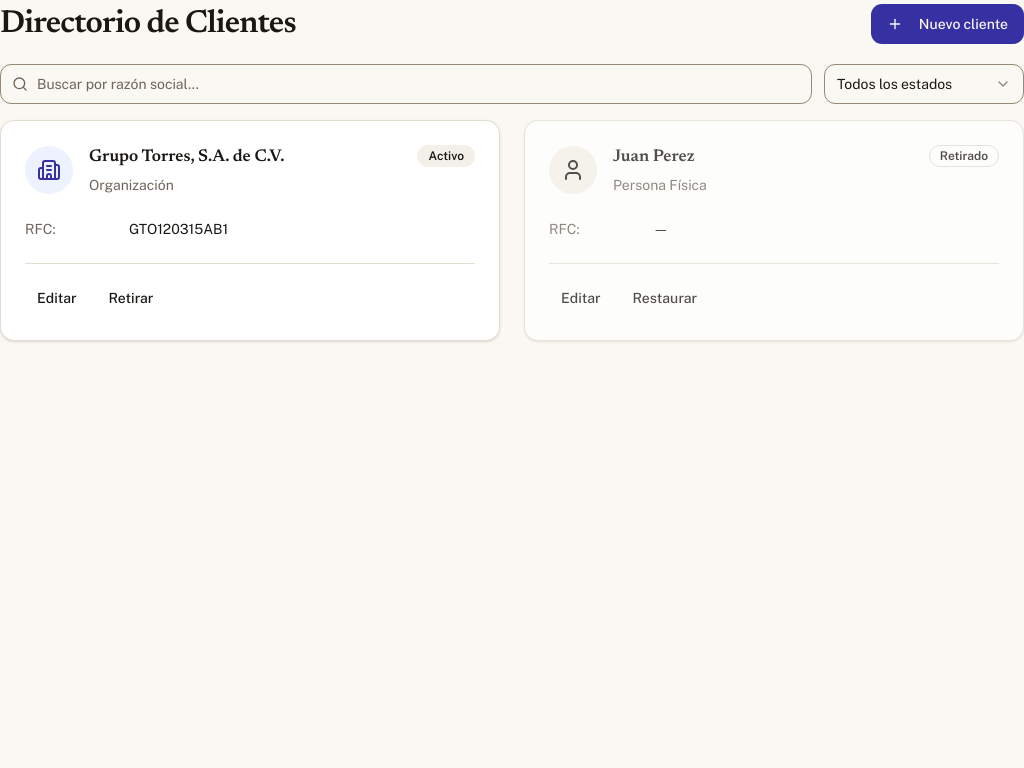
it: the withdraw and restore controls › asks for confirmation before withdrawing, and sends nothing until then
The image size is (1024, 768).
Check: the heading "Grupo Torres, S.A. de C.V." is shown, box 89,145 -> 284,170
Click the button with aria-label "retirar grupo torres": x=131, y=298 96,280 -> 165,316
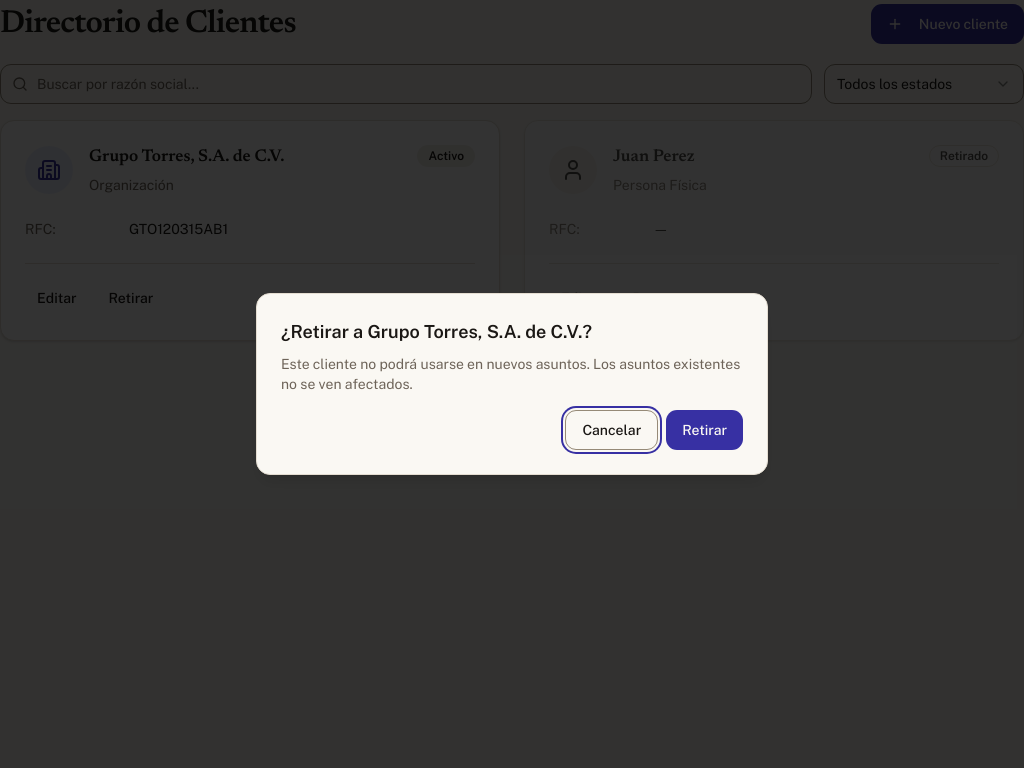
Check: the dialog shows "asuntos existentes no se ven afectados", box 281,356 -> 740,392
